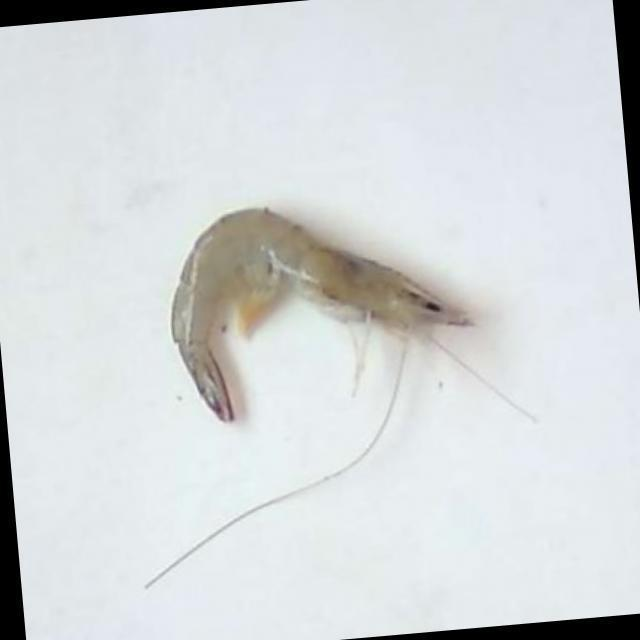shrimp: (172, 209, 474, 421)
